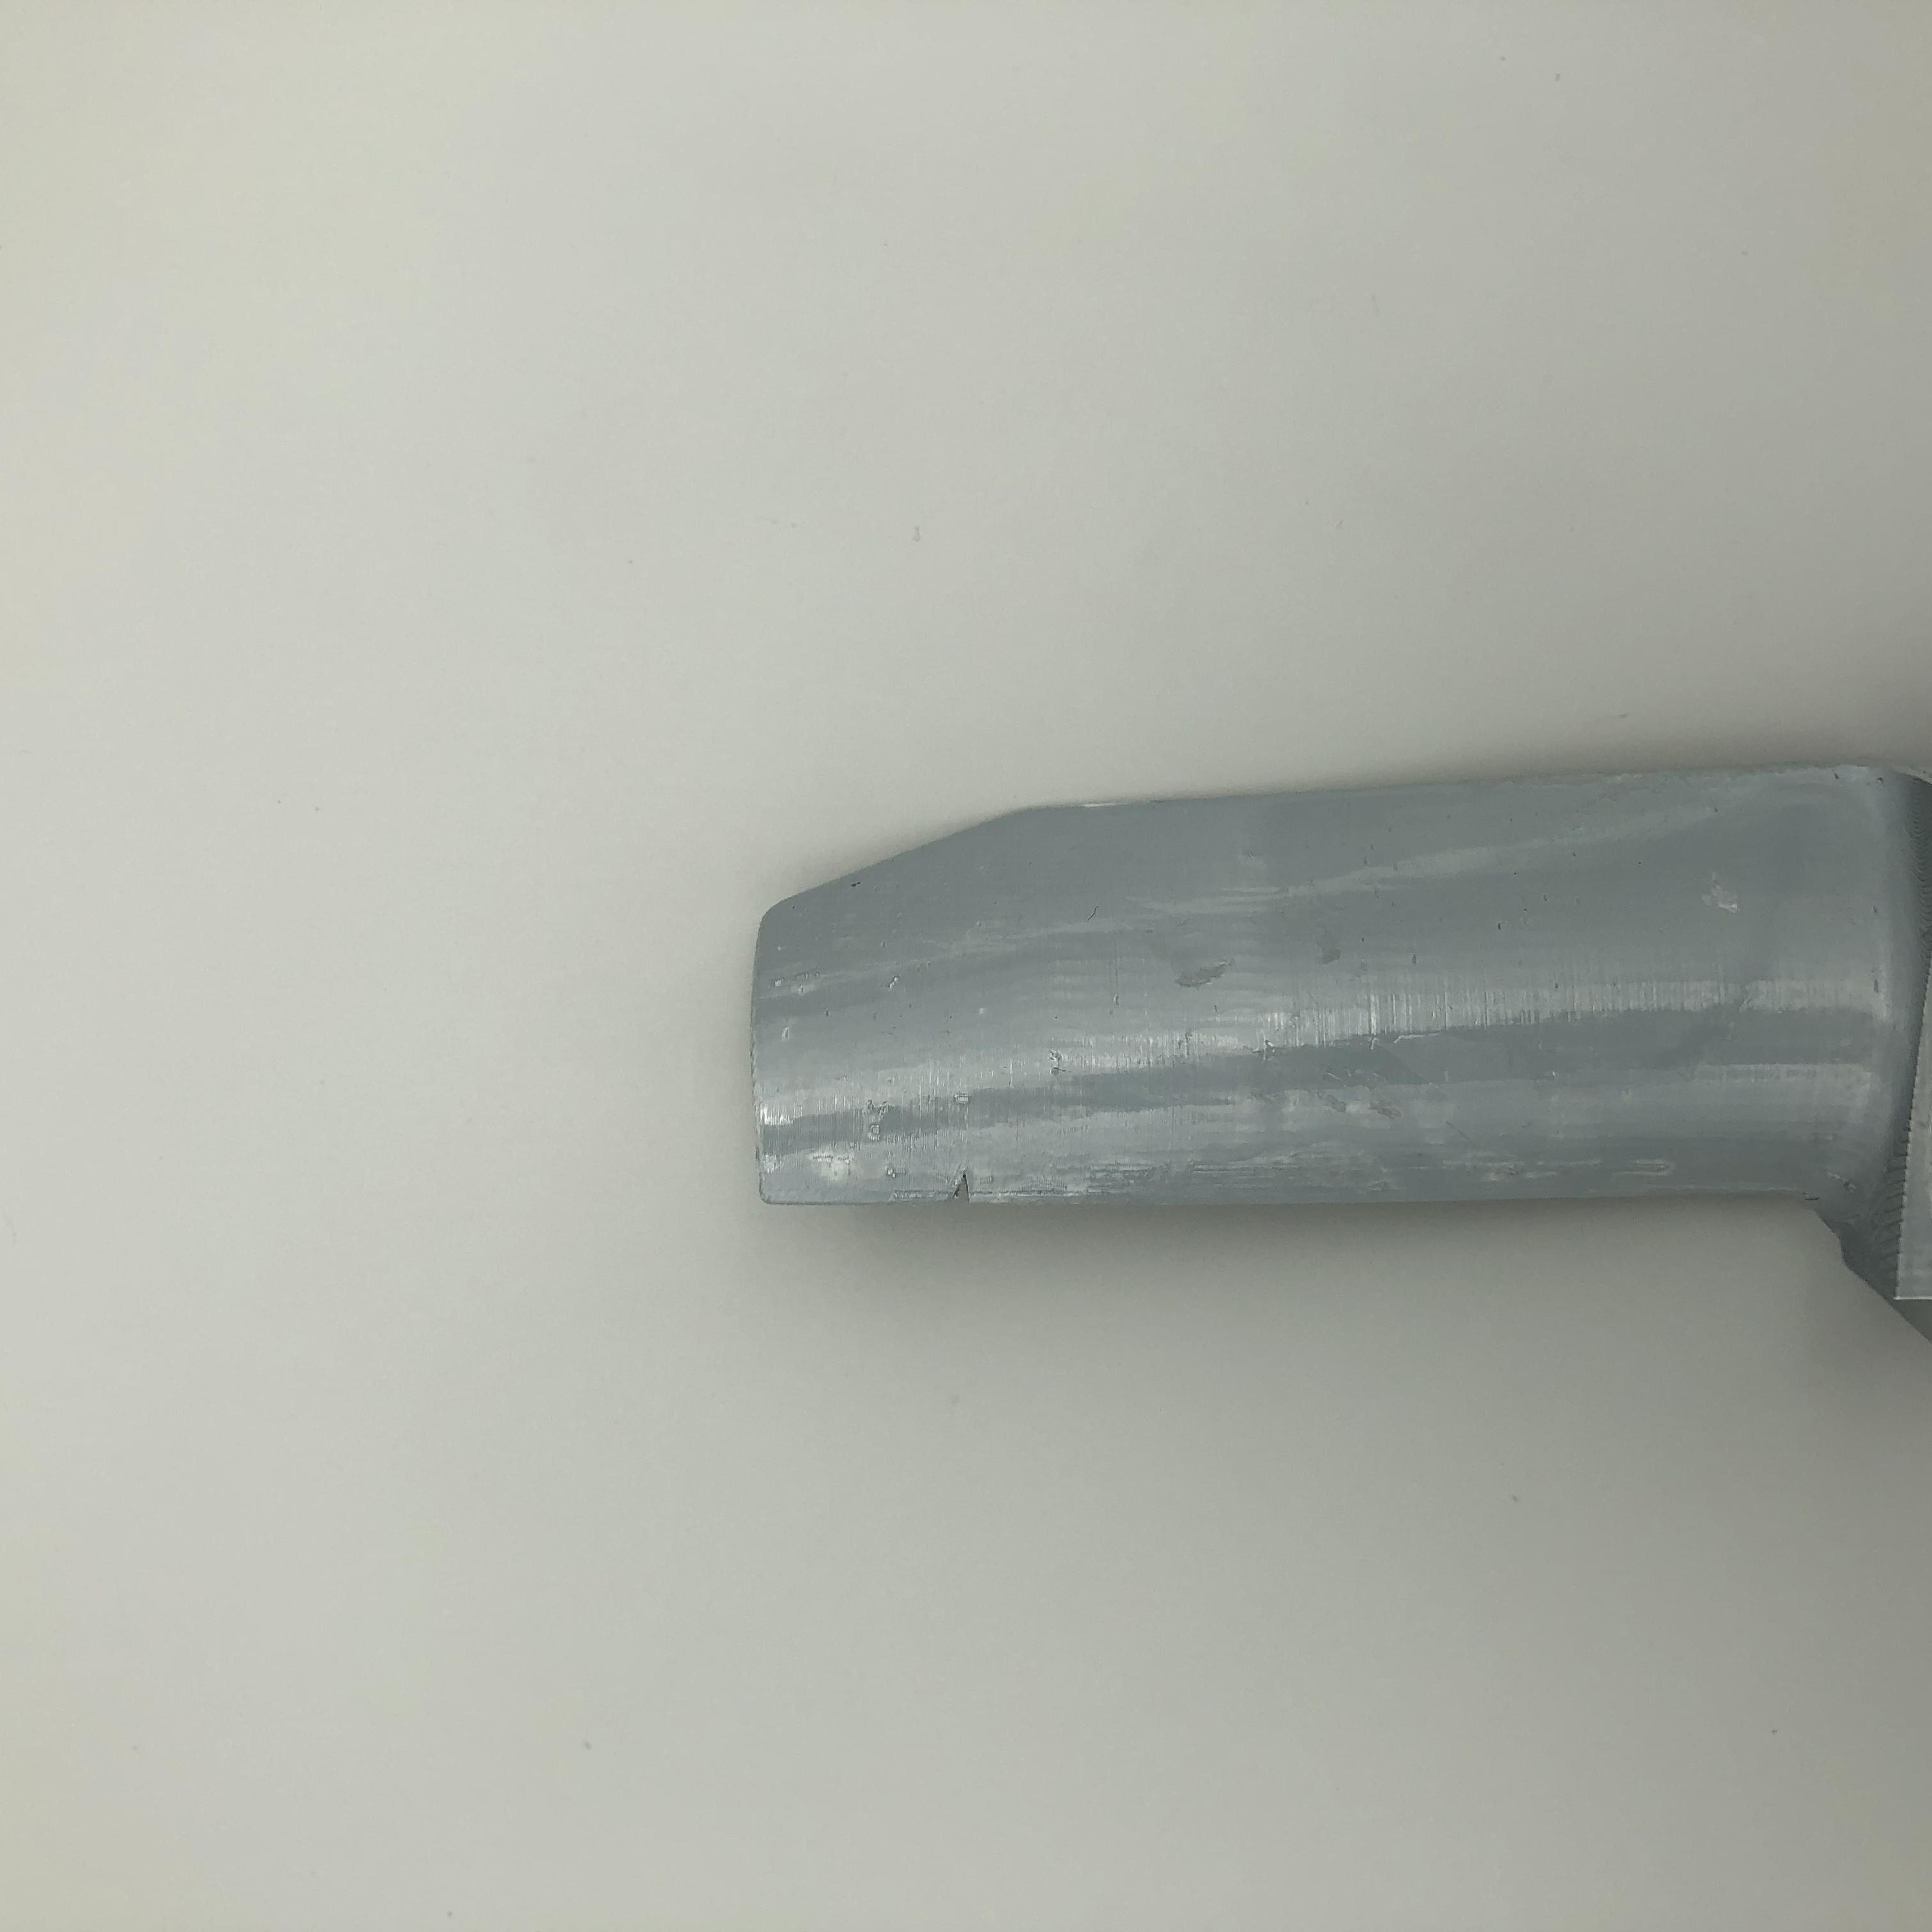groove: (936, 1168, 1008, 1208)
